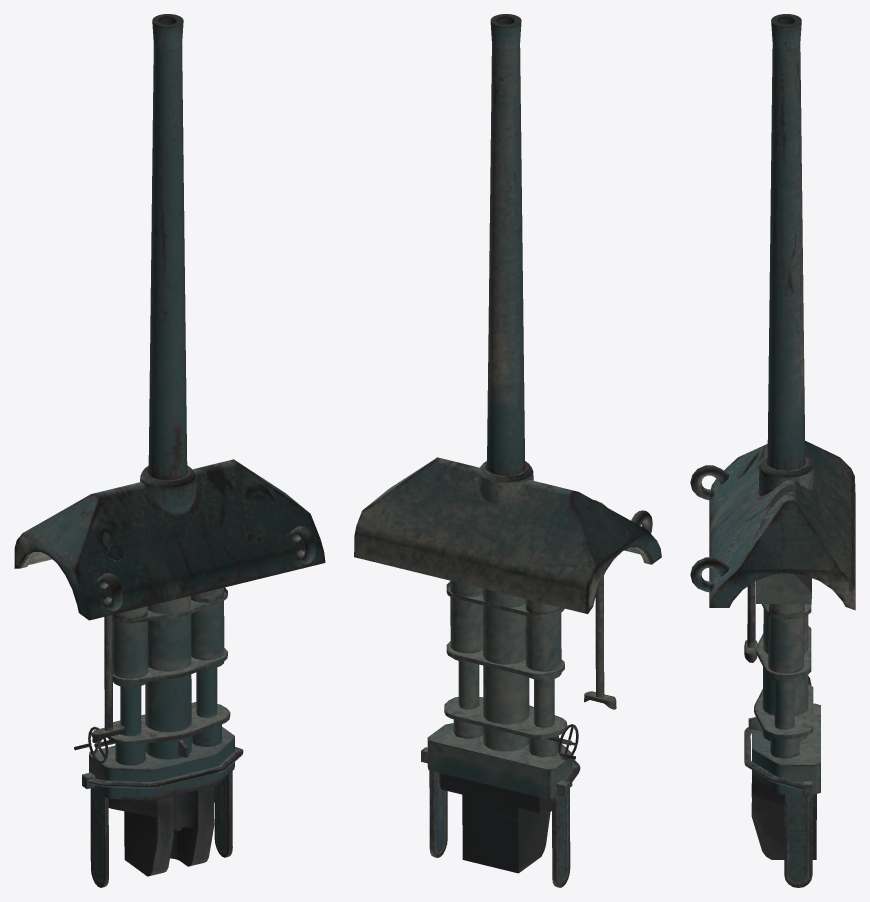
File: Gun_01.glb
3 renders of one model, left to right at view 1: azimuth 30°, elevation 25°; view 2: azimuth 150°, elevation 25°; view 3: azimuth 270°, elevation 25°, orthographic. The views are drawn at different scales.
Visible parts, largest first — view 1: set_0_group_0; view 2: set_0_group_0; view 3: set_0_group_0.
Part boxes in pixels (x1,y1,x2,y2): set_0_group_0: [14, 14, 325, 887]; set_0_group_0: [354, 14, 661, 887]; set_0_group_0: [690, 14, 855, 887].
Bounding box in the file's own units: 1.18 × 4.09 × 0.733.
Materials: 1 (1 with a texture image).
